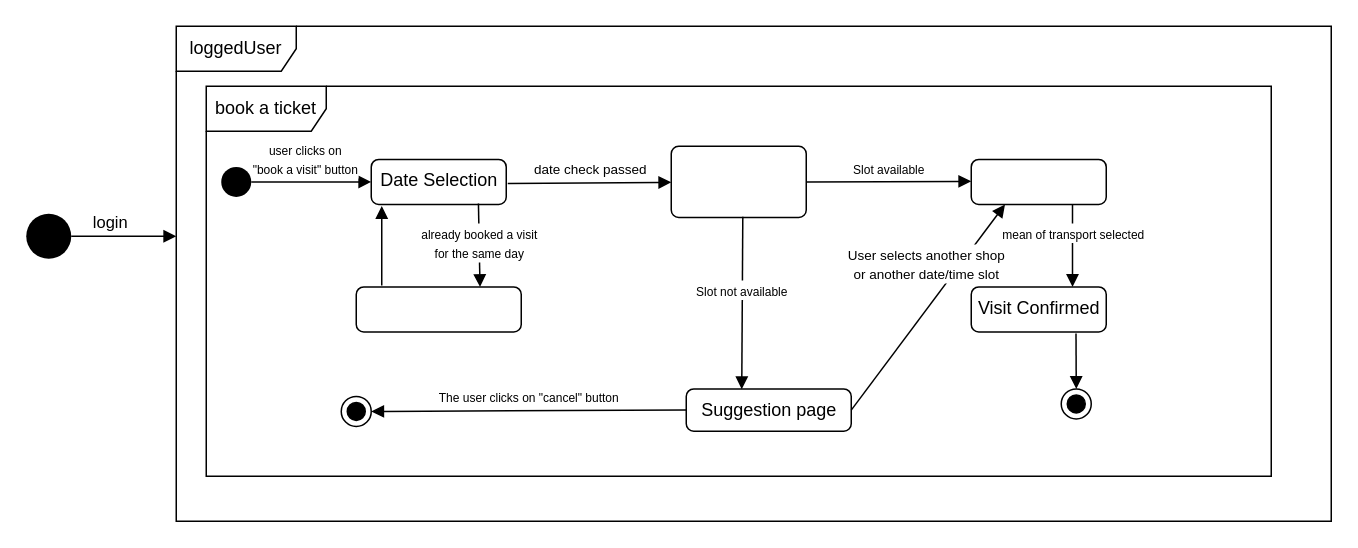
Image size: 1358x548. Some labels were removed from this diagram. Each missing label, with the centre of its shape:
Date selection error: (438,308)
Mean of transport selection: (1038,181)
Time and Shop selection: (738,181)
